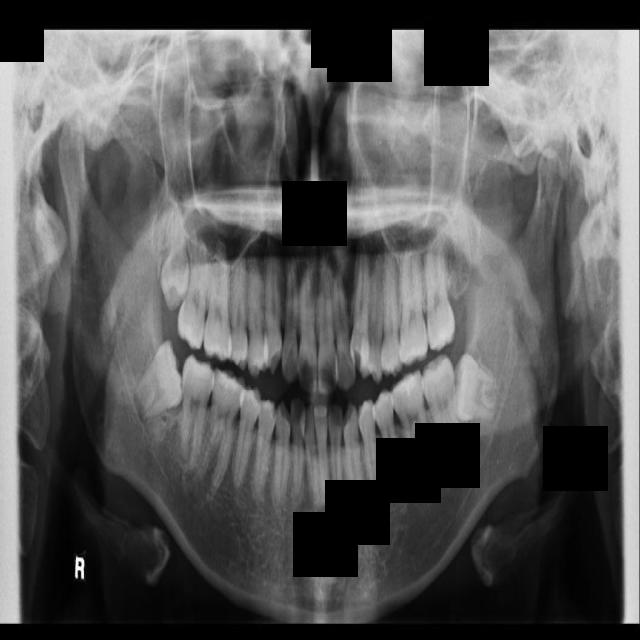3M ESPE Implant: (161, 199, 189, 313)
52: (392, 369, 423, 401), (213, 370, 243, 395)
BioHorizons Implant: (423, 233, 456, 353)
Biomet 3i Implant: (451, 353, 503, 423)
Blue Sky Bio Implant: (419, 352, 465, 471)
Caries: (175, 231, 212, 350)
Implant: (180, 354, 215, 469)
Keystone Dental Implant: (122, 339, 193, 422)
